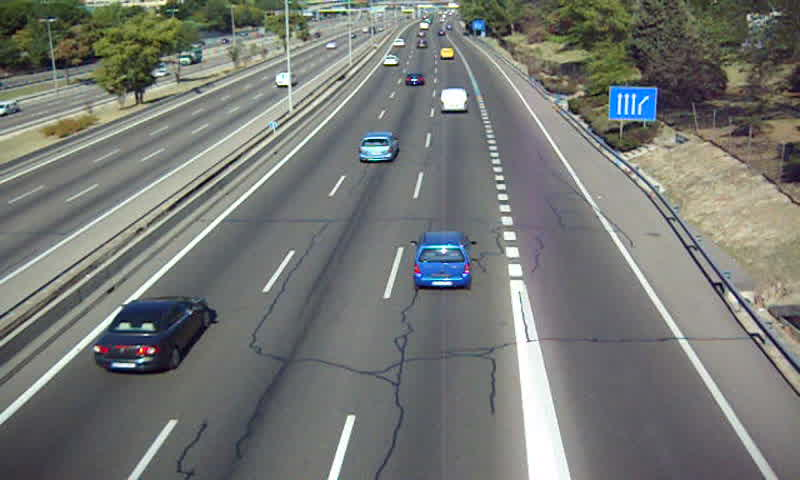car: (93, 295, 211, 372), (414, 234, 472, 289), (359, 132, 400, 163), (403, 72, 424, 86), (381, 55, 398, 69)
van: (439, 88, 470, 112)
